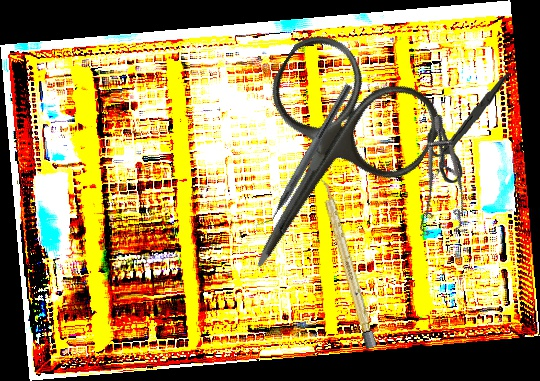Chopper: (253, 77, 353, 236)
Iris Scissors: (184, 22, 453, 311), (424, 67, 510, 187)
Scalpel Handle: (318, 177, 377, 350)
Speculum: (371, 113, 499, 253)
